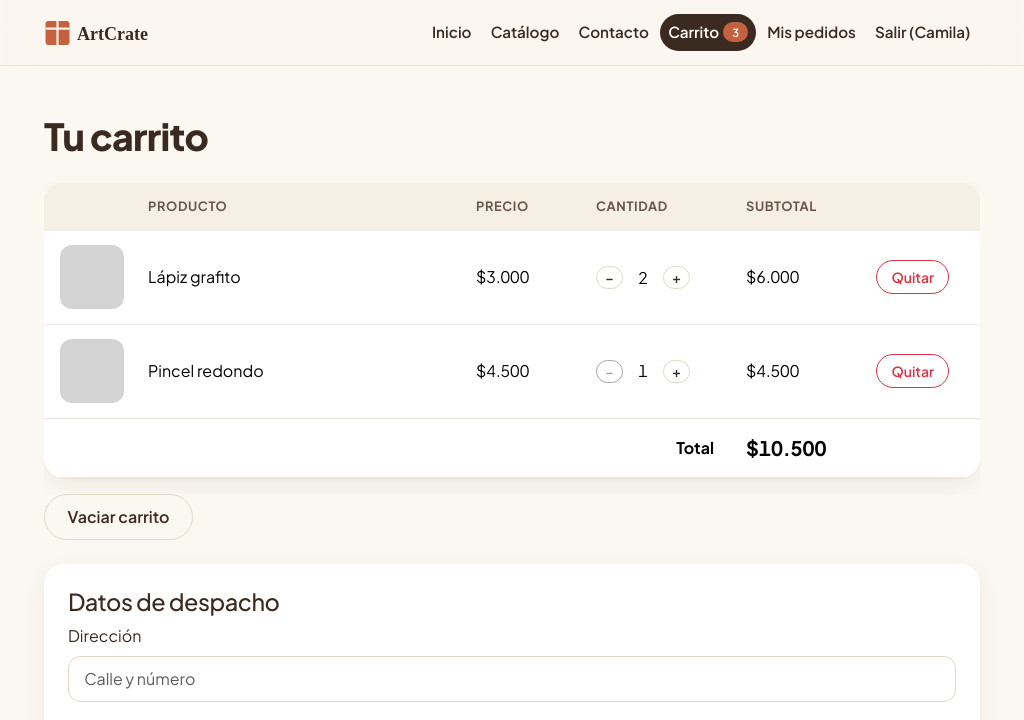
Test: Carrito › si no hay stock suficiente muestra el motivo y la cantidad no cambia
The image size is (1024, 720).
Click the button named "Aumentar cantidad de Lápiz grafito" at (676, 278), box top-left (663, 266), bottom-right (690, 289)
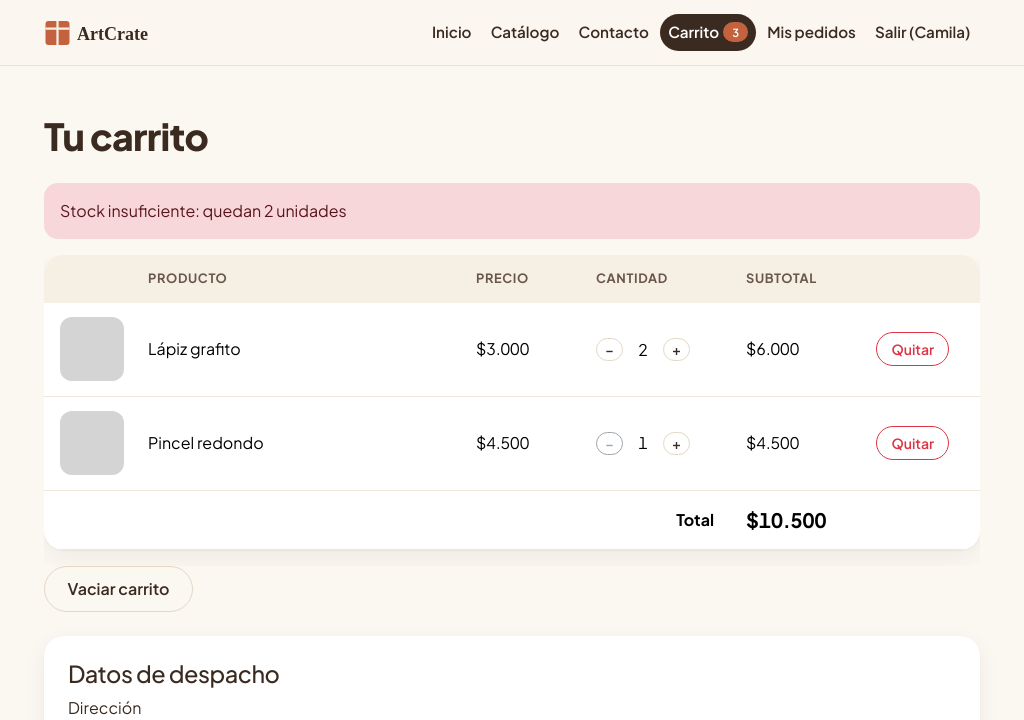
Expected: the text "$6.000" is shown, top-left (730, 303), bottom-right (860, 396)
Expected: the message shows "Stock insuficiente", top-left (60, 200), bottom-right (347, 221)
